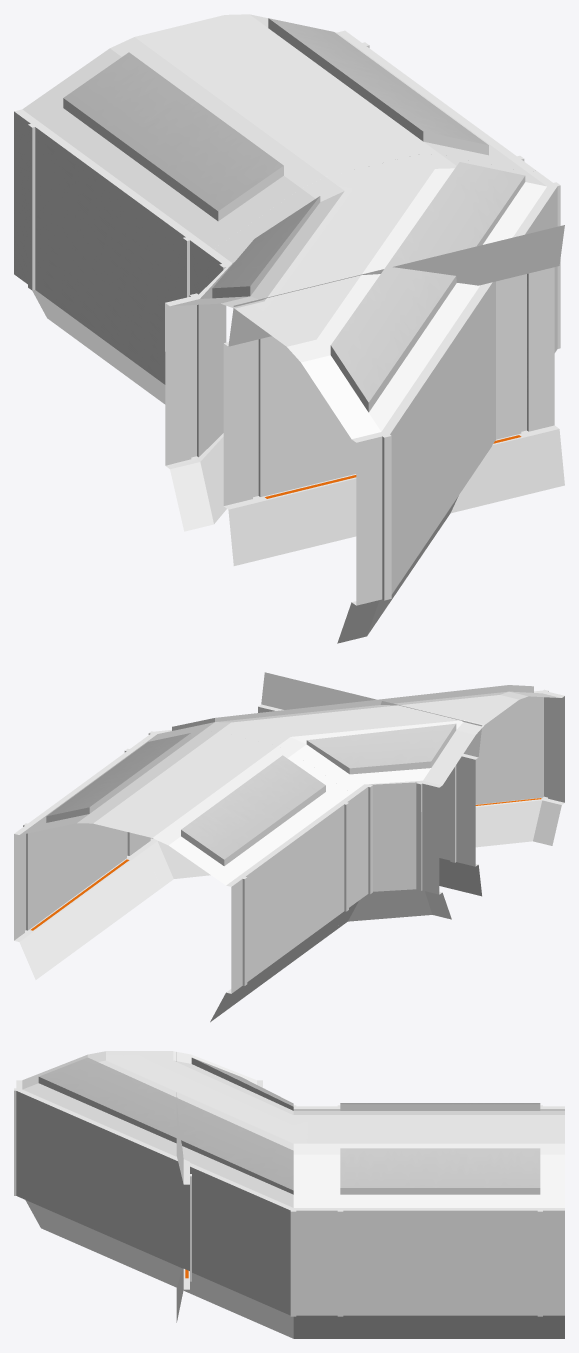
The model's file is Walls.fbx.
3 renders of one model, top to bottom at view 1: azimuth 30°, elevation 25°; view 2: azimuth 150°, elevation 25°; view 3: azimuth 270°, elevation 25°, orthographic. The views are drawn at different scales.
Parts seen in each view (by area): view 1: wallCorridor Bend_90, wallCorridor_straight.001, corridor_wildEnd; view 2: wallCorridor_straight.001, wallCorridor Bend_90, corridor_wildEnd; view 3: wallCorridor Bend_90, wallCorridor_straight.001, corridor_wildEnd.
Part boxes in pixels (box(x1,y1,x2,y2)): wallCorridor Bend_90: box(165, 154, 560, 643); wallCorridor_straight.001: box(14, 14, 535, 404); corridor_wildEnd: box(223, 225, 564, 565); wallCorridor_straight.001: box(14, 731, 356, 1022); wallCorridor Bend_90: box(139, 685, 564, 930); corridor_wildEnd: box(258, 672, 482, 896); wallCorridor Bend_90: box(14, 1051, 318, 1338); wallCorridor_straight.001: box(318, 1103, 564, 1338); corridor_wildEnd: box(176, 1052, 191, 1322).
Size of the model in its own units: 504 by 306 by 893.
